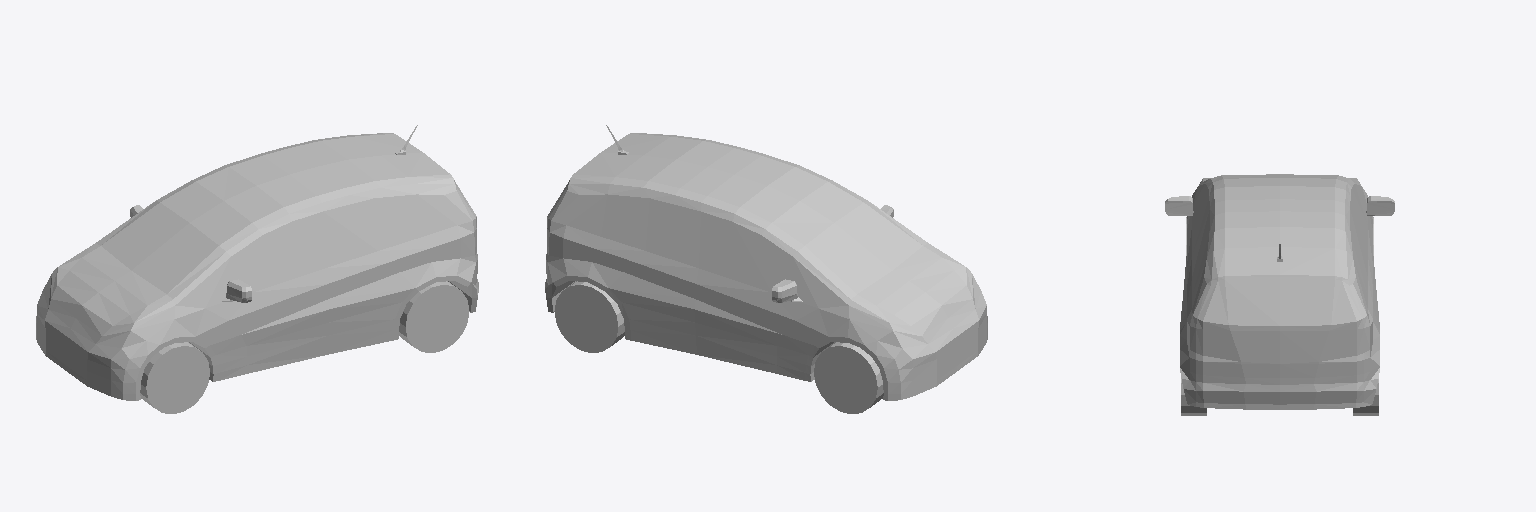
3 renders of one model, left to right at view 1: azimuth 30°, elevation 25°; view 2: azimuth 150°, elevation 25°; view 3: azimuth 270°, elevation 25°, orthographic.
Visible parts, largest first — view 1: Honda_jazz03; view 2: Honda_jazz03; view 3: Honda_jazz03.
Boxes of the visible parts, box(x1,y1,x2,y2) form: Honda_jazz03: box(36, 125, 478, 413); Honda_jazz03: box(545, 125, 987, 413); Honda_jazz03: box(1165, 174, 1394, 415).
Bounding box in the file's own units: 881 × 410 × 463.